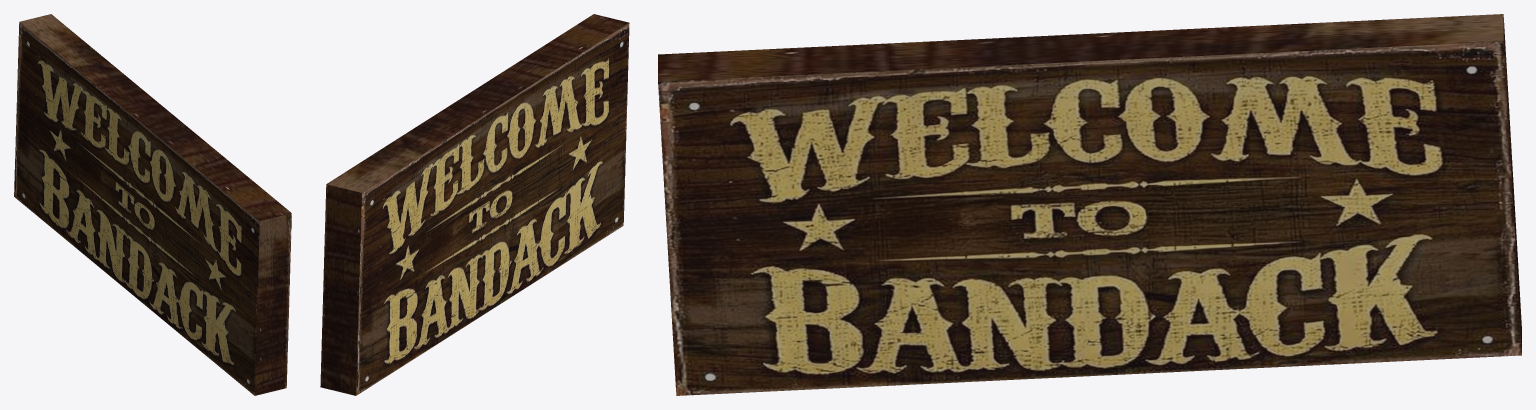
3 renders of one model, left to right at view 1: azimuth 30°, elevation 25°; view 2: azimuth 150°, elevation 25°; view 3: azimuth 270°, elevation 25°, orthographic. The views are drawn at different scales.
Visible parts, largest first — view 1: Cube.2159; view 2: Cube.2159; view 3: Cube.2159.
Part boxes in pixels (x1,y1,x2,y2): Cube.2159: [14, 14, 291, 395]; Cube.2159: [320, 14, 629, 395]; Cube.2159: [658, 14, 1521, 395].
Size of the model in its own units: 14.62 by 87.99 by 194.
